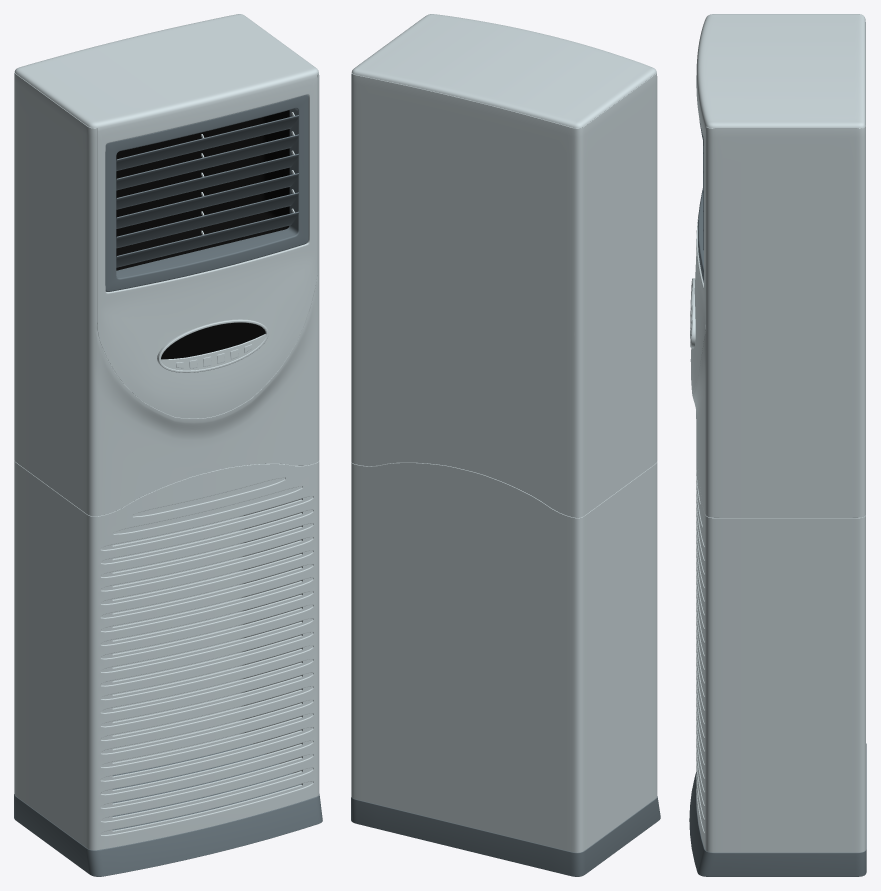
3 renders of one model, left to right at view 1: azimuth 30°, elevation 25°; view 2: azimuth 150°, elevation 25°; view 3: azimuth 270°, elevation 25°, orthographic.
Visible parts, largest first — view 1: archmodels74_051_001, archmodels74_051_003, archmodels74_051_002, archmodels74_051_004, archmodels74_051_005; view 2: archmodels74_051_001, archmodels74_051_003; view 3: archmodels74_051_001, archmodels74_051_003.
Boxes of the visible parts, <box> form: archmodels74_051_001: <box>14,14,319,850</box>; archmodels74_051_003: <box>14,94,322,876</box>; archmodels74_051_002: <box>116,110,289,270</box>; archmodels74_051_004: <box>161,322,265,359</box>; archmodels74_051_005: <box>161,334,266,370</box>; archmodels74_051_001: <box>351,14,657,852</box>; archmodels74_051_003: <box>351,796,660,876</box>; archmodels74_051_001: <box>690,14,865,852</box>; archmodels74_051_003: <box>689,119,866,876</box>.
Size of the model in its own units: 19.76 by 61.3 by 13.05.
